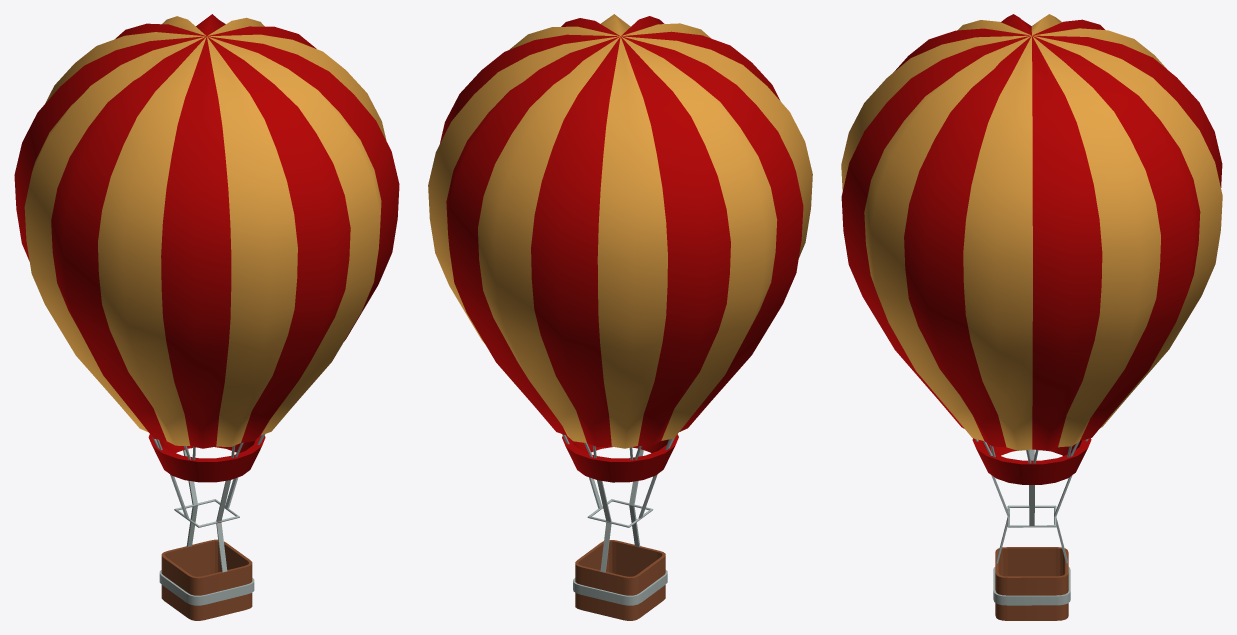
Rendered from F_Baloon.fbx.
The picture shows the model from 3 angles, left to right: view 1: azimuth 30°, elevation 25°; view 2: azimuth 150°, elevation 25°; view 3: azimuth 270°, elevation 25°; orthographic projection.
Visible parts, largest first — view 1: F_Baloon; view 2: F_Baloon; view 3: F_Baloon.
Boxes of the visible parts, x1=… form: F_Baloon: x1=14, y1=14, x2=399, y2=620; F_Baloon: x1=428, y1=14, x2=812, y2=620; F_Baloon: x1=841, y1=14, x2=1222, y2=620.
Bounding box in the file's own units: 1061 × 1748 × 1061.
